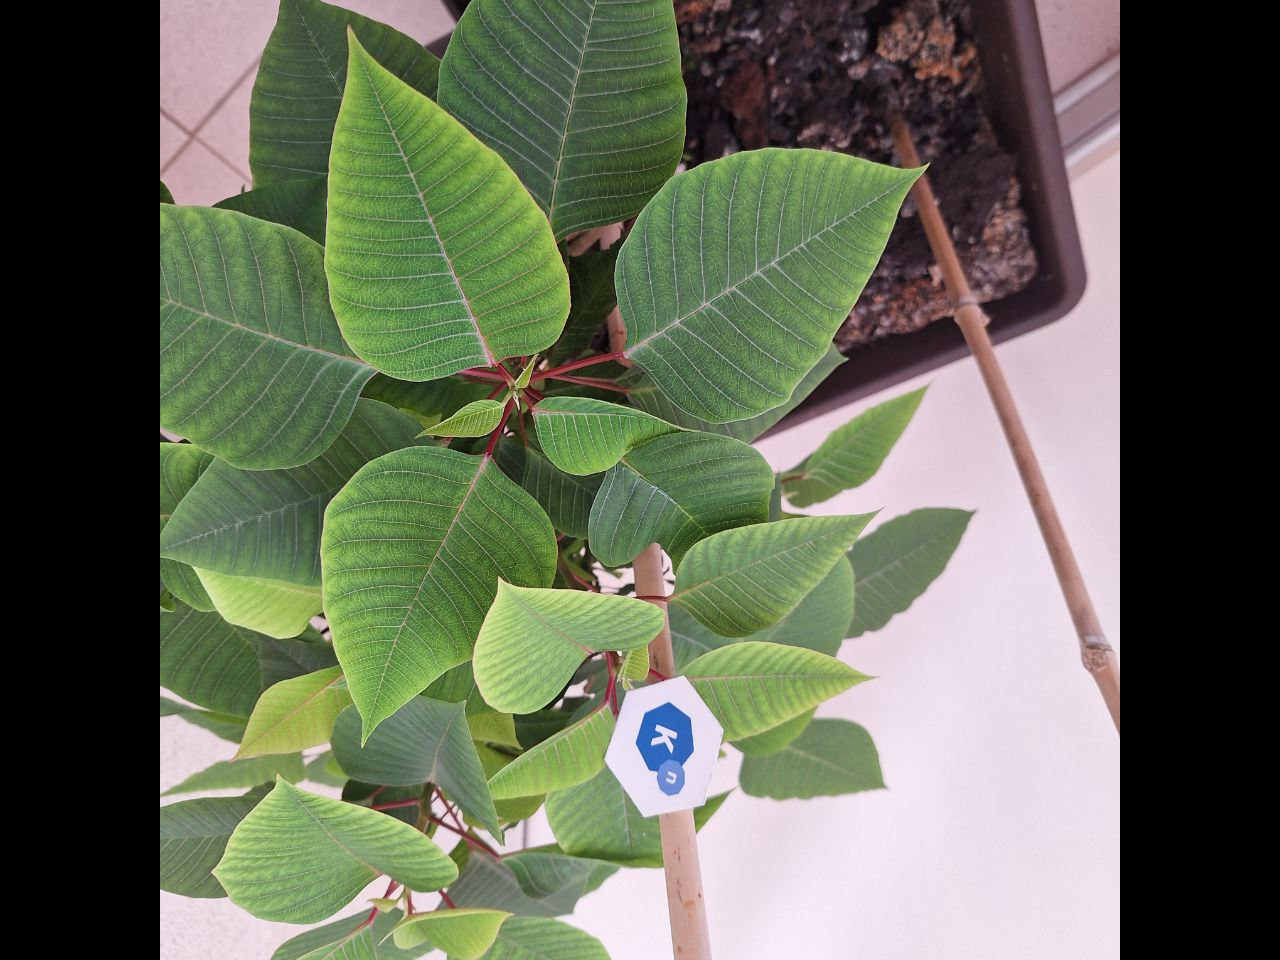knative: (632, 697, 694, 802)
